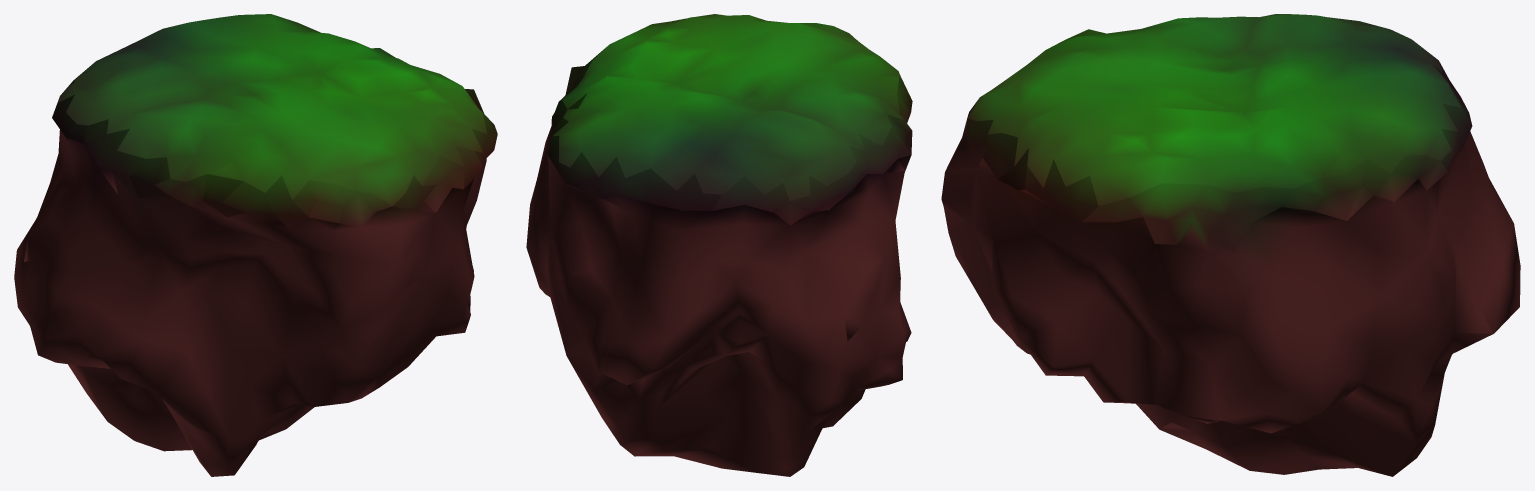
File: island_lod.obj.fbx
The picture shows the model from 3 angles, left to right: view 1: azimuth 30°, elevation 25°; view 2: azimuth 150°, elevation 25°; view 3: azimuth 270°, elevation 25°; orthographic projection. The views are drawn at different scales.
Parts seen in each view (by area): view 1: mesh_LOD0; view 2: mesh_LOD0; view 3: mesh_LOD0.
Boxes of the visible parts, x1,y1,x2,y2 form: mesh_LOD0: [14, 14, 497, 476]; mesh_LOD0: [526, 14, 912, 476]; mesh_LOD0: [941, 14, 1520, 476].
Bounding box in the file's own units: 1.17 × 1.05 × 1.31.
